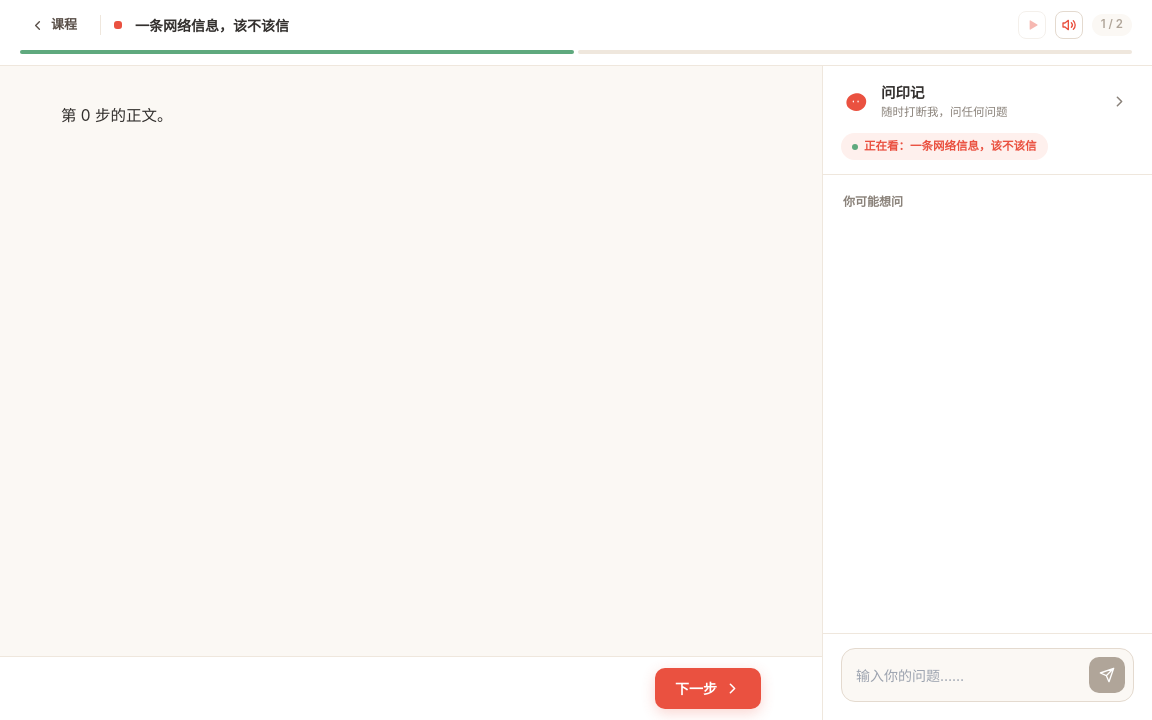
CoursePlayer › surfaces a courseAsk error frame as the assistant's reply
Expected: the text "第 0 步的正文。" is shown, [61,106,172,125]
Type "这段话可信吗？" into the field with placeholder "输入你的问题……" at (968, 675), box [856,664,1079,686]
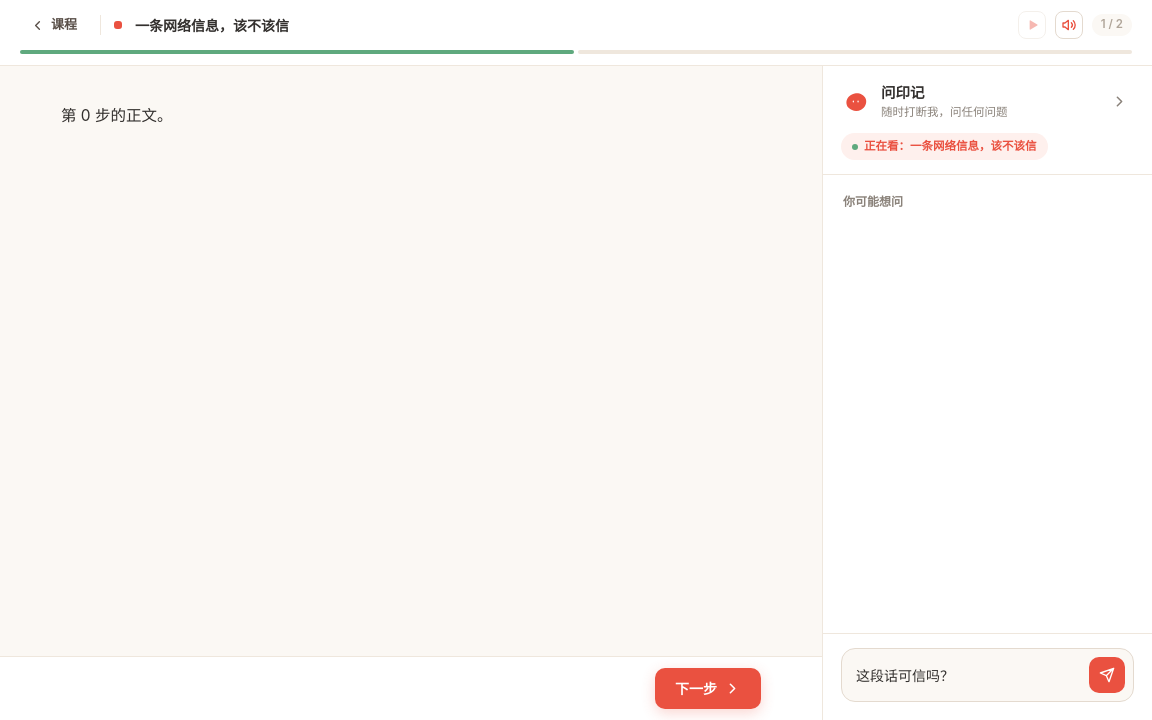
Click the button named "发送" at (1107, 675), box [1089,657,1125,693]
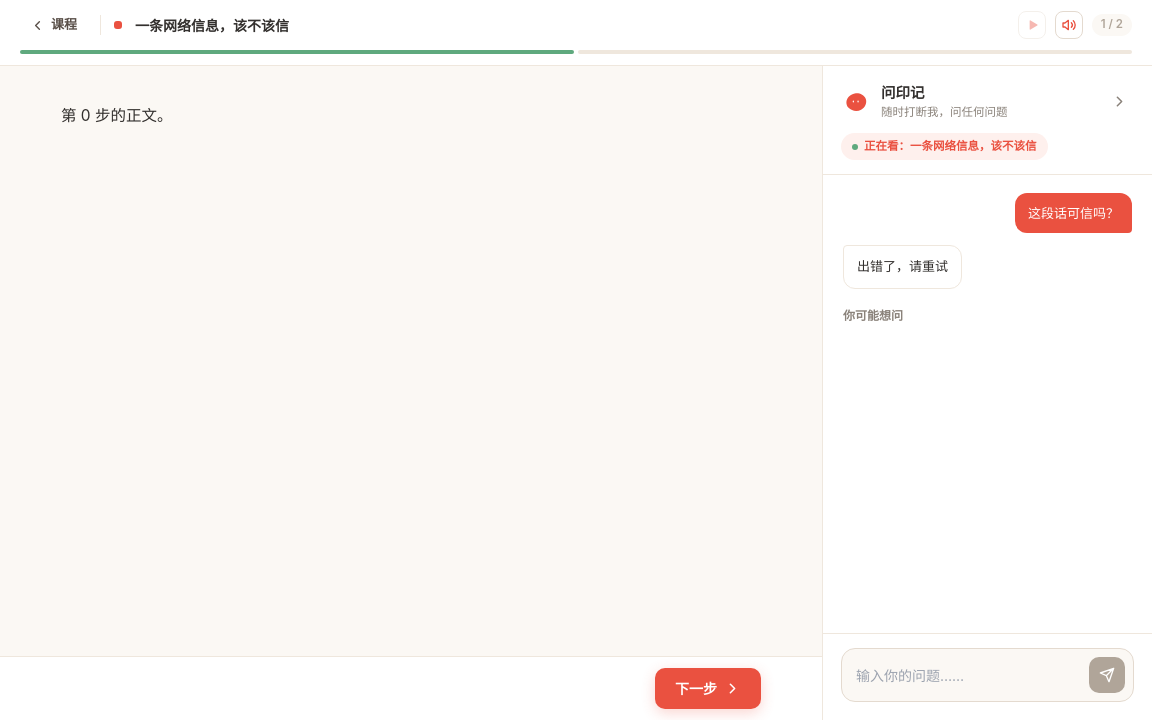
Expected: the text "出错了，请重试" is shown, [843,245,962,289]
